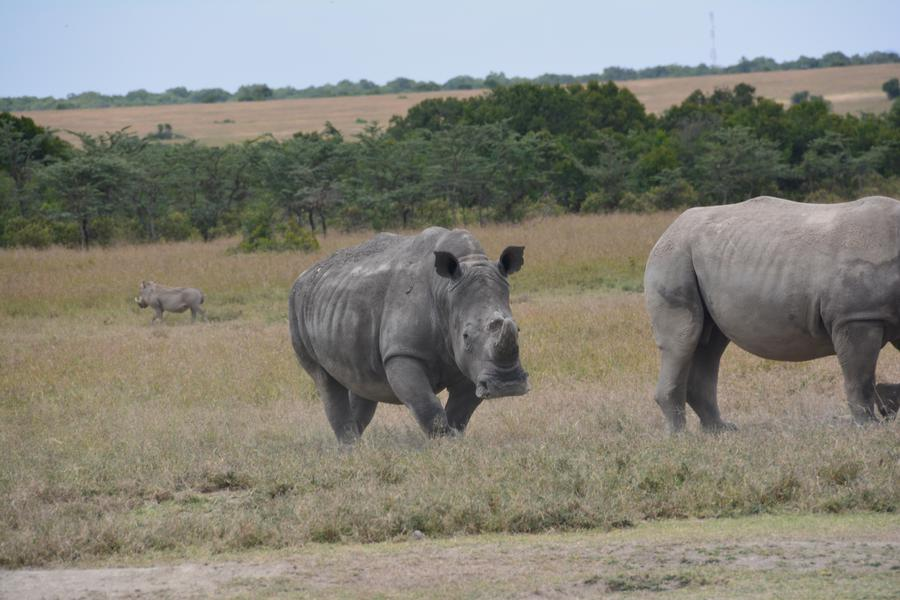rhino: (647, 181, 897, 429), (296, 220, 534, 425)
